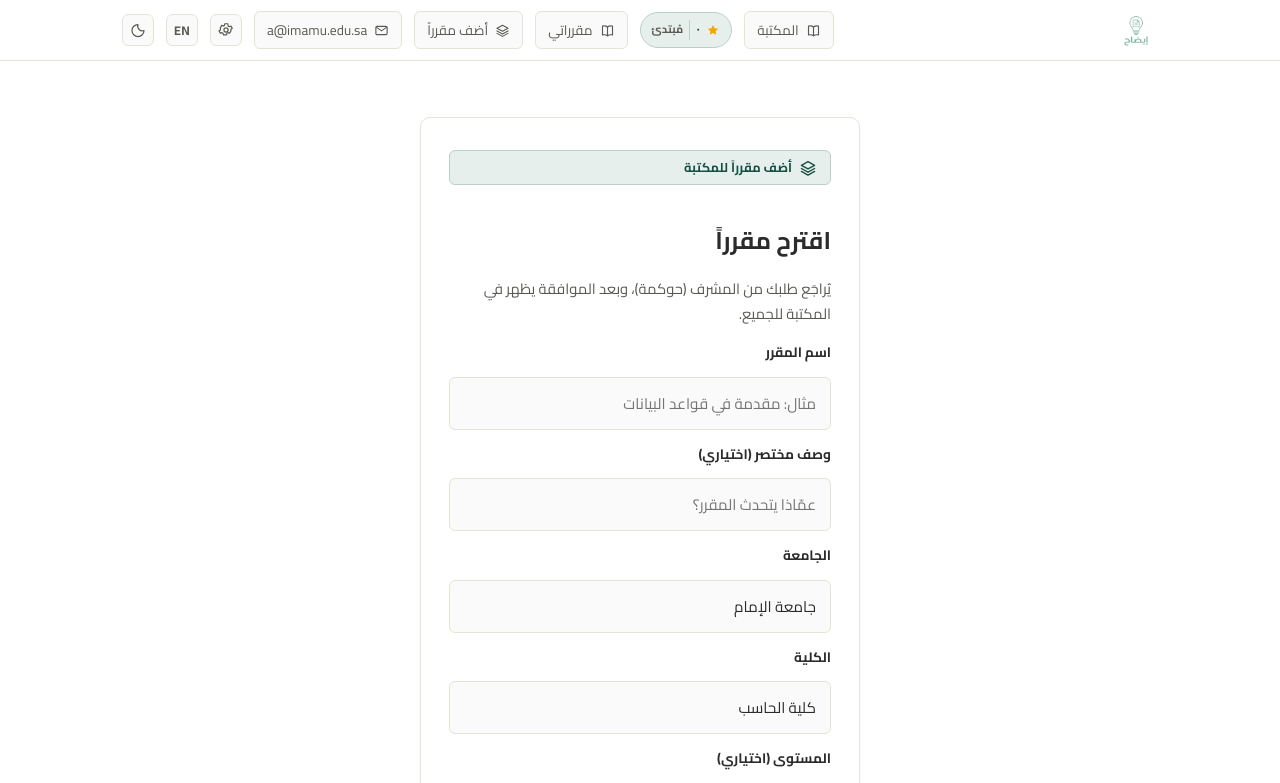
Test: خطأ الإرسال يظهر للمستخدم
This screenshot has width=1280, height=783.
Type "مادة" into the field labelled "اسم المقرر" at (640, 403), box [449, 377, 831, 430]
(page scrolled)
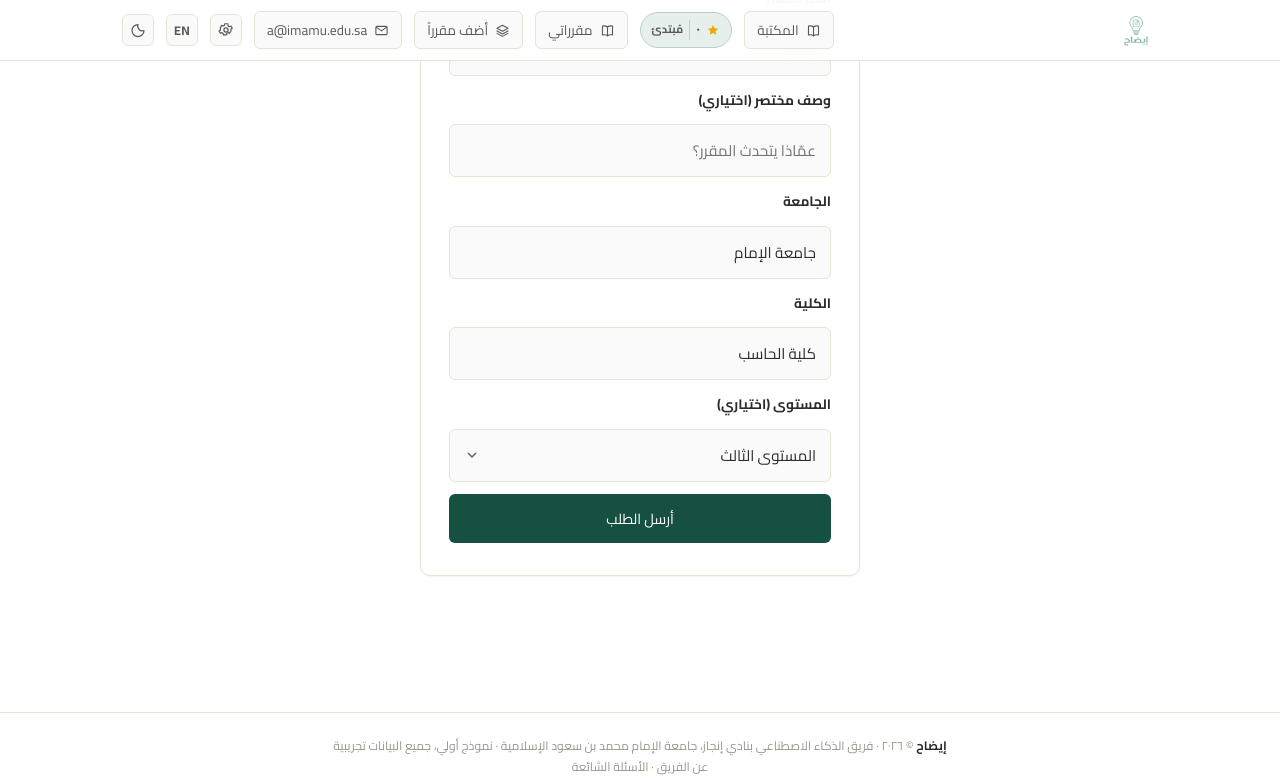
Click the button "أرسل الطلب" at (640, 518), box [449, 494, 831, 543]
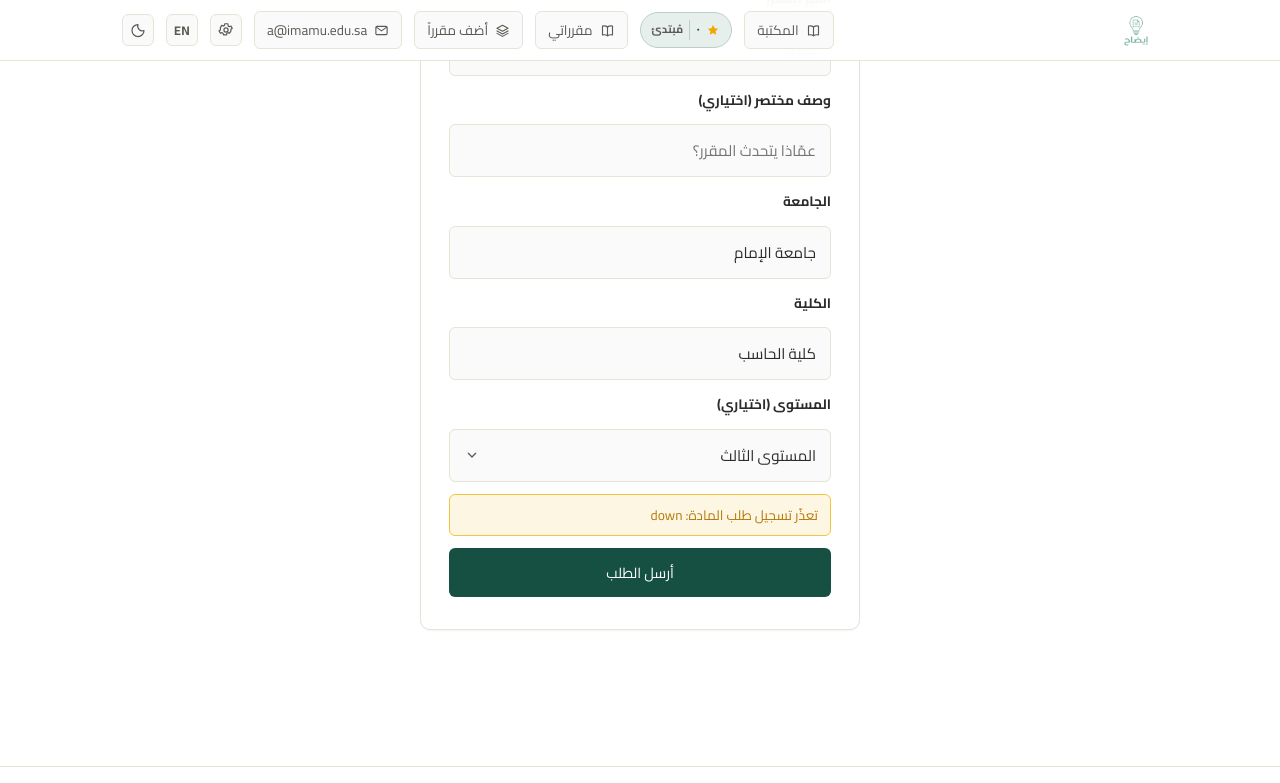
Expected: the message shows "تعذّر تسجيل طلب المادة", [650, 502, 818, 528]
